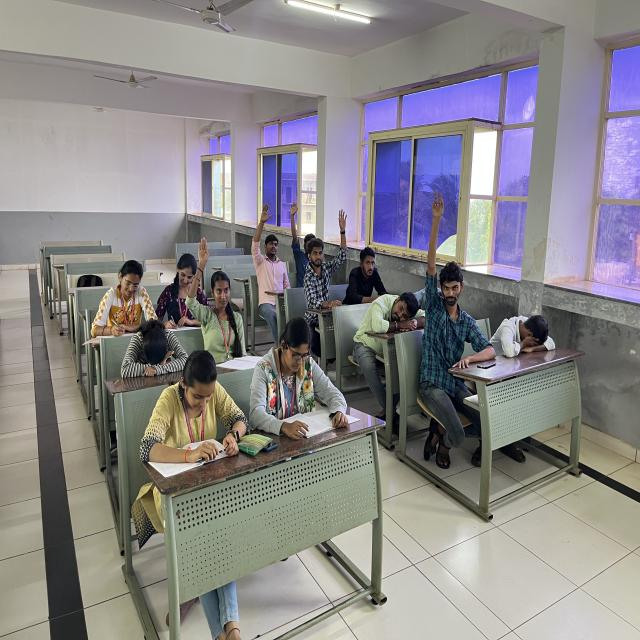Hand Rising: (424, 183, 479, 447), (185, 226, 250, 354), (244, 194, 292, 319), (284, 193, 331, 287), (304, 205, 347, 307)
Reading: (249, 308, 358, 443), (144, 350, 248, 478)
Sleeping: (475, 272, 568, 362), (121, 309, 187, 385)
Writing: (88, 250, 159, 344), (152, 236, 216, 330)
